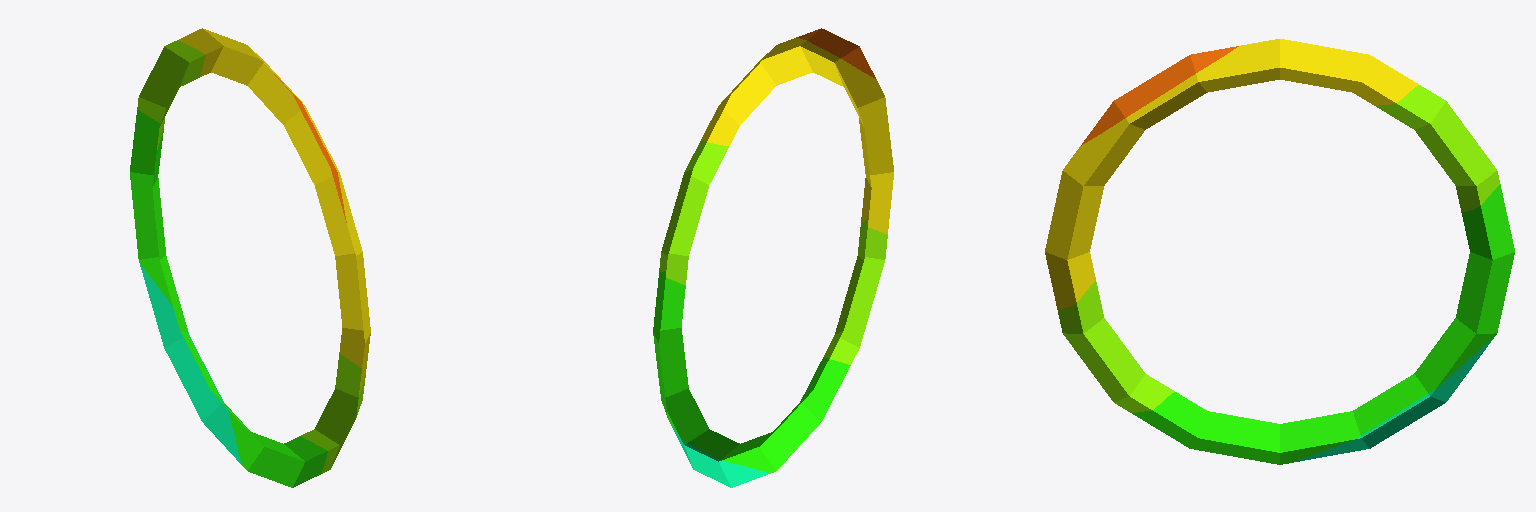
3 views of the same model, side by side, from view 1: azimuth 30°, elevation 25°; view 2: azimuth 150°, elevation 25°; view 3: azimuth 270°, elevation 25° (orthographic).
Parts seen in each view (by area): view 1: players_4; view 2: players_4; view 3: players_4.
Part boxes in pixels (left/top/right/bottom): players_4: left=130, top=28, right=370, bottom=487; players_4: left=653, top=28, right=893, bottom=487; players_4: left=1045, top=39, right=1514, bottom=464.
Size of the model in its own units: 0.7948 by 18.73 by 18.73.
1 materials, 1 textured.